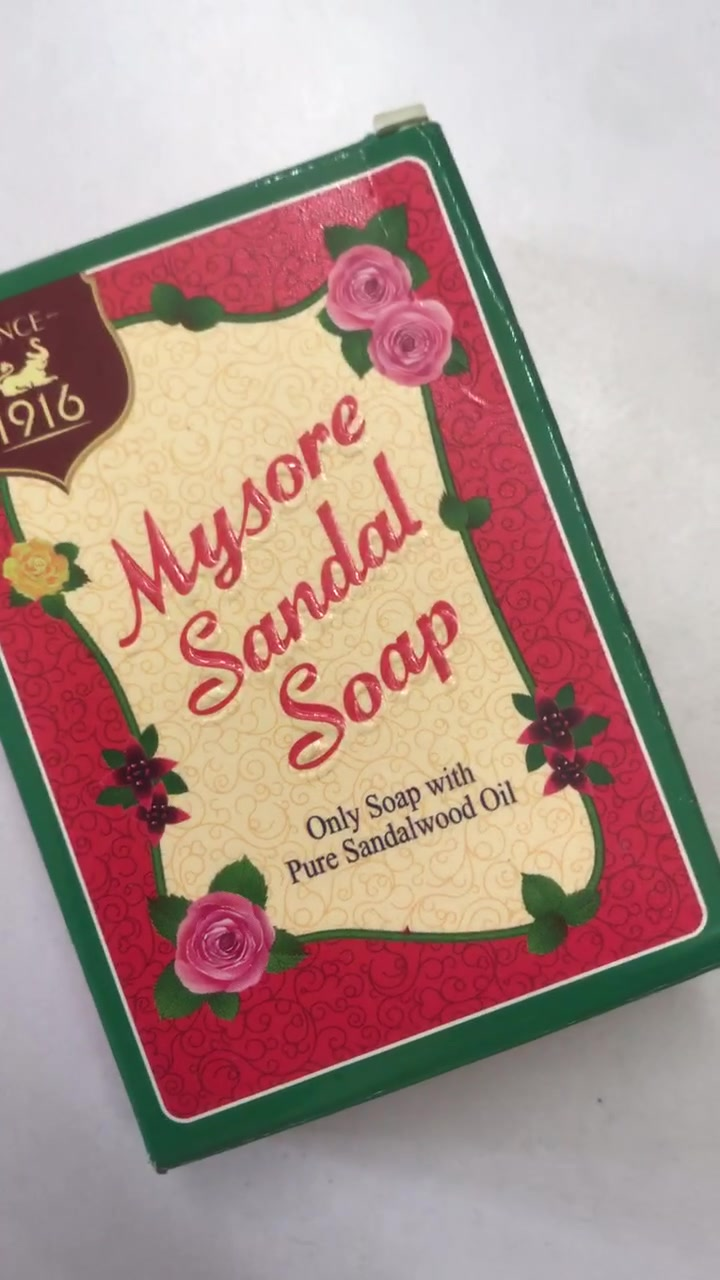mysore sandal soap: (5, 117, 720, 1160)
